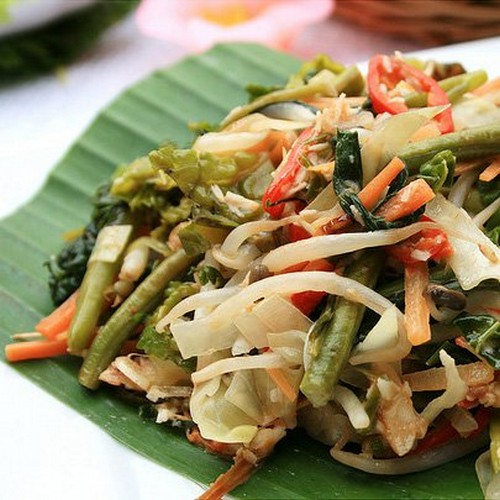jukut urap: (60, 59, 478, 449)
